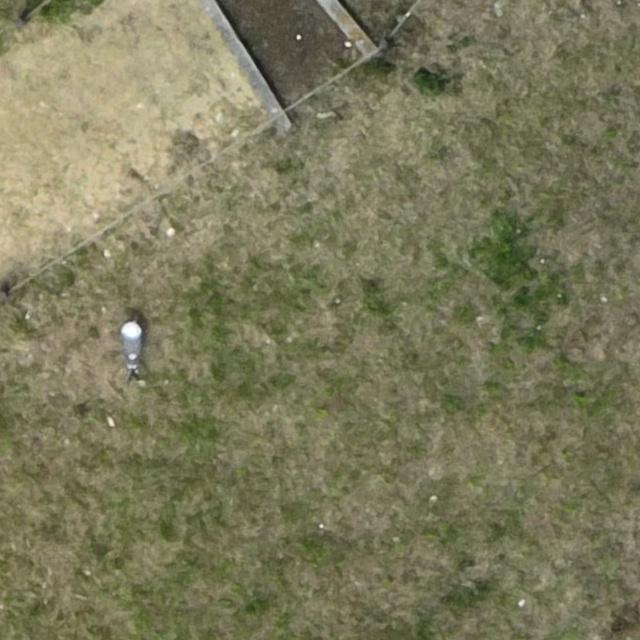umineko: (122, 322, 142, 366)
